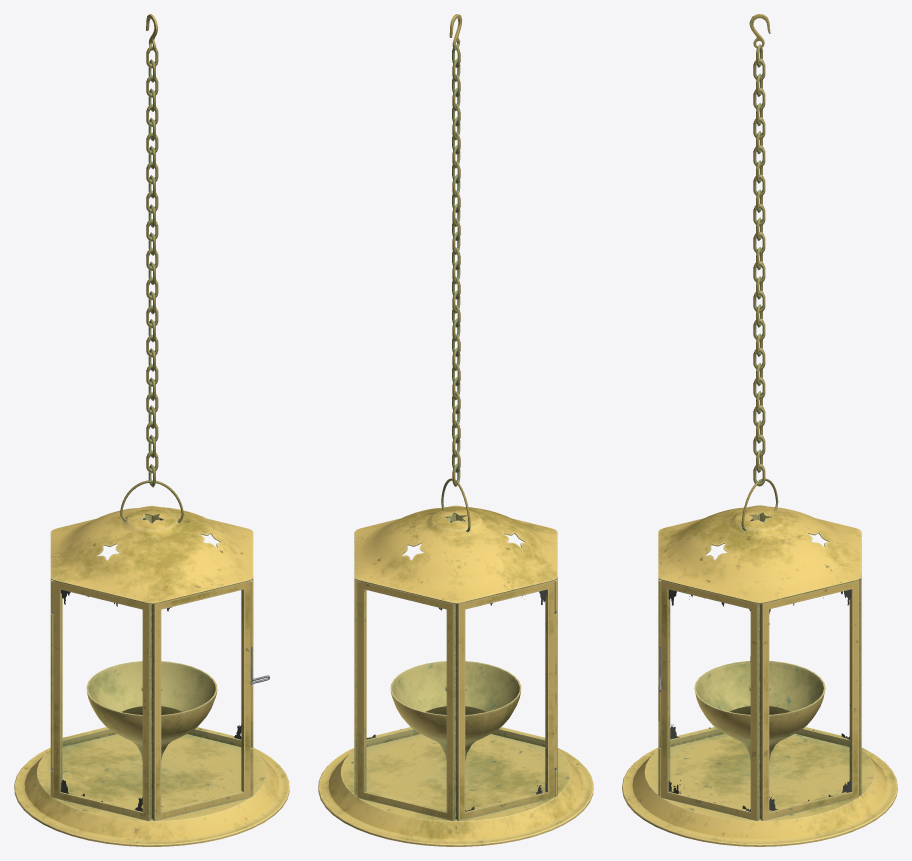
Rendered from brass_diya_lantern_2k.fbx.
The picture shows the model from 3 angles, left to right: view 1: azimuth 30°, elevation 25°; view 2: azimuth 150°, elevation 25°; view 3: azimuth 270°, elevation 25°; orthographic projection.
Visible parts, largest first — view 1: brass_diya_lantern, brass_diya_lantern_chain; view 2: brass_diya_lantern, brass_diya_lantern_chain; view 3: brass_diya_lantern, brass_diya_lantern_chain.
Part boxes in pixels (x1,y1,x2,y2): brass_diya_lantern: (14,505,289,846); brass_diya_lantern_chain: (146,14,158,487); brass_diya_lantern: (318,505,593,846); brass_diya_lantern_chain: (449,14,462,486); brass_diya_lantern: (622,505,897,846); brass_diya_lantern_chain: (749,14,770,486).
Size of the model in its own units: 12.3 by 38.08 by 12.3.
Materials: 3 (3 with a texture image).
